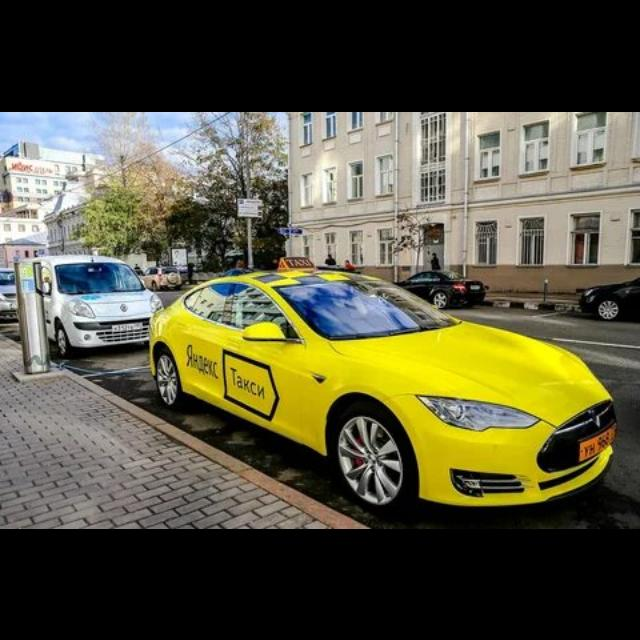taxi: (150, 255, 619, 516)
